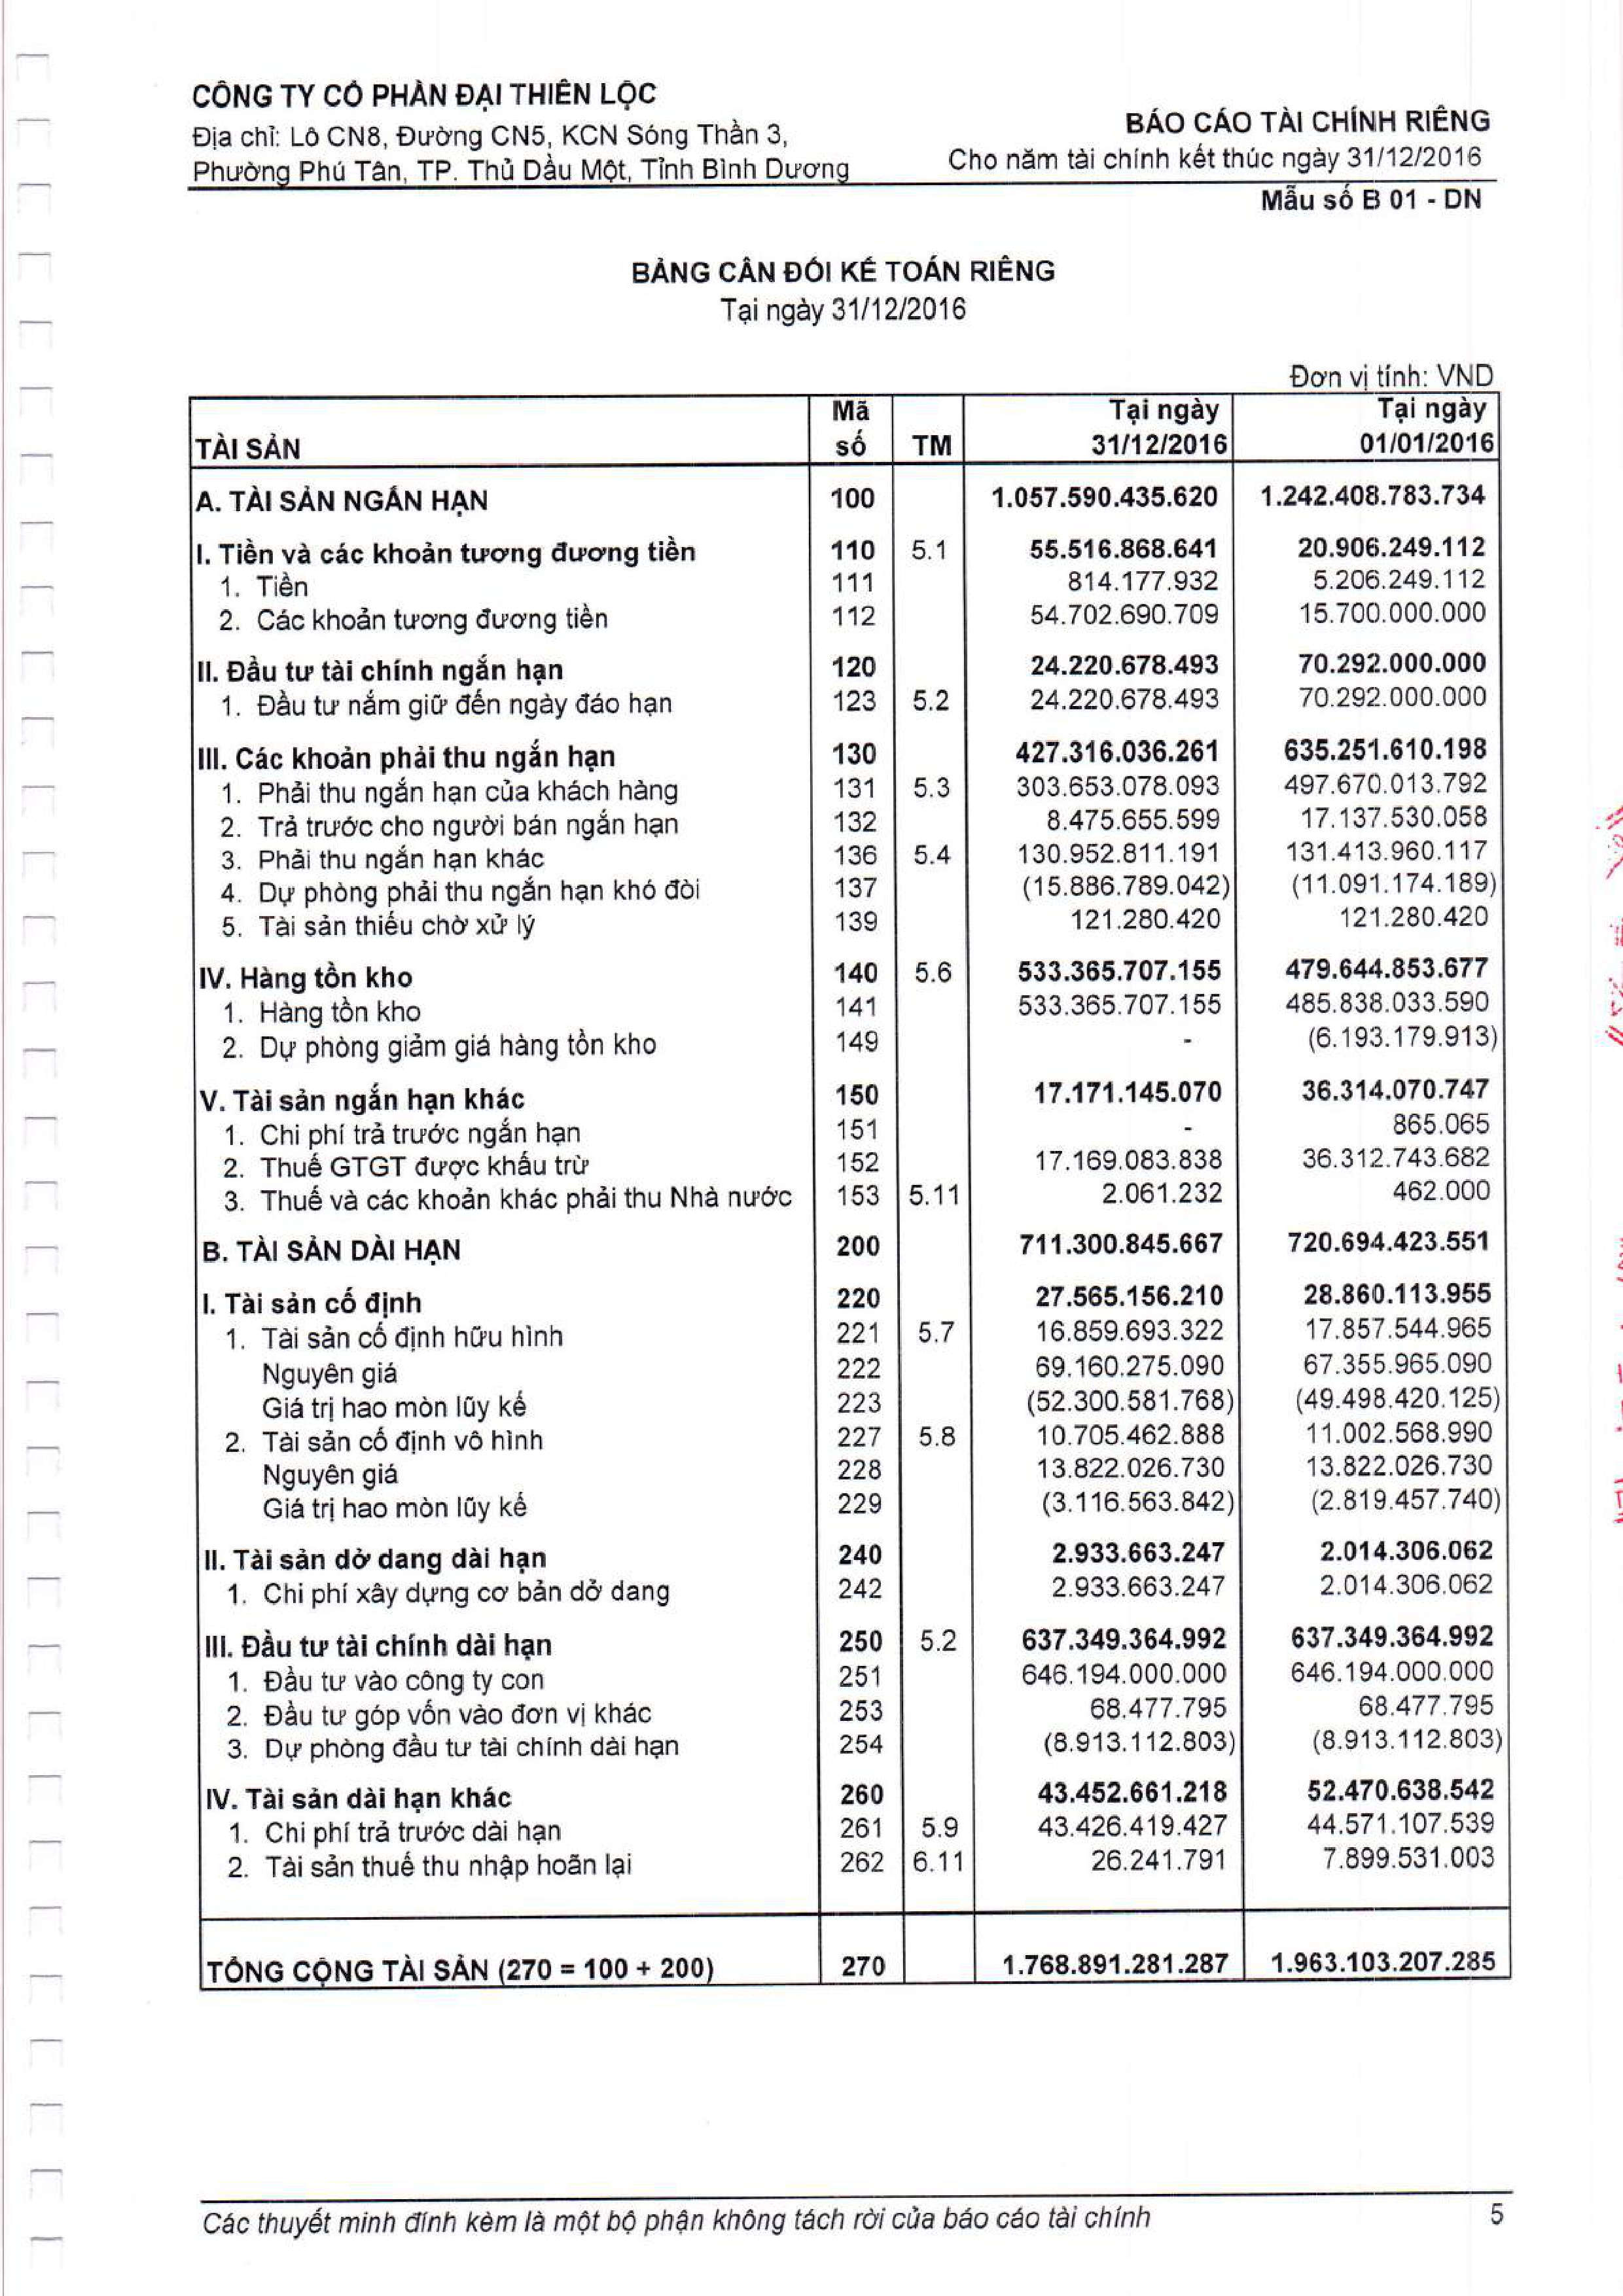table: (177, 388, 1519, 1998)
table column: (179, 388, 738, 1998), (949, 388, 1226, 1998), (1237, 388, 1505, 1998), (833, 388, 933, 1998), (745, 388, 824, 1998)
table column header: (177, 400, 1519, 458)
table row: (177, 398, 1519, 455), (177, 1129, 1519, 1183), (177, 1199, 1519, 1252), (177, 469, 1519, 518), (177, 521, 1519, 569), (177, 1947, 1519, 1978), (177, 660, 1519, 690), (177, 692, 1519, 721), (177, 746, 1519, 776), (177, 985, 1519, 1013), (177, 1713, 1519, 1741), (177, 1771, 1519, 1799), (177, 1862, 1519, 1891), (177, 570, 1519, 597), (177, 778, 1519, 804), (177, 807, 1519, 834), (177, 836, 1519, 862), (177, 865, 1519, 892), (177, 895, 1519, 922), (177, 955, 1519, 981), (177, 1043, 1519, 1069), (177, 1073, 1519, 1099), (177, 1101, 1519, 1127), (177, 1278, 1519, 1304), (177, 1306, 1519, 1332), (177, 1362, 1519, 1388), (177, 1390, 1519, 1417), (177, 1420, 1519, 1446), (177, 1450, 1519, 1476), (177, 1478, 1519, 1504), (177, 1510, 1519, 1536), (177, 1539, 1519, 1566), (177, 1599, 1519, 1625), (177, 1627, 1519, 1654), (177, 1685, 1519, 1711), (177, 1743, 1519, 1769), (177, 1833, 1519, 1859), (177, 1892, 1519, 1919), (177, 602, 1519, 627)
